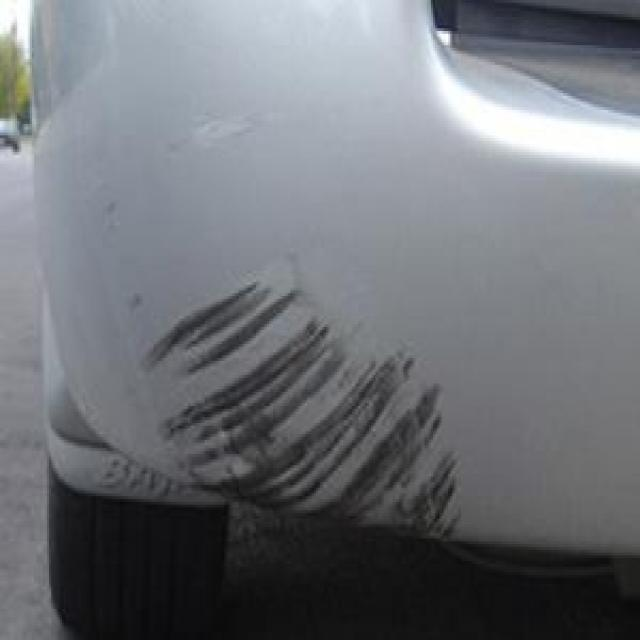scratch: (98, 283, 472, 571)
